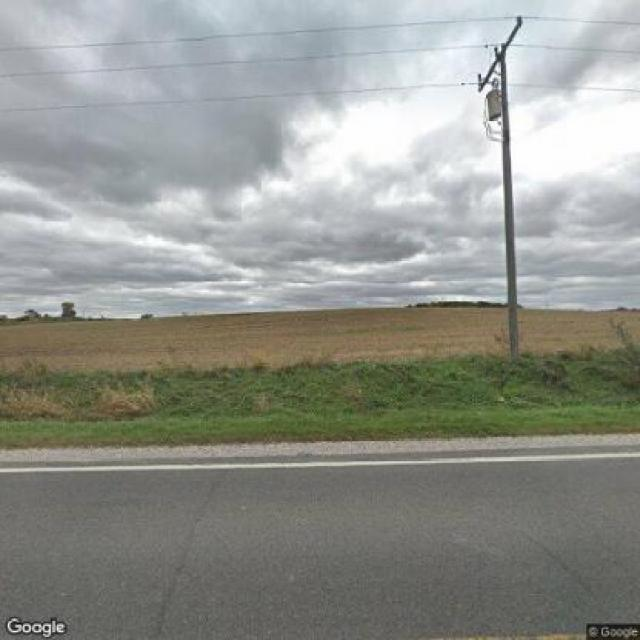pole: (461, 18, 537, 352)
